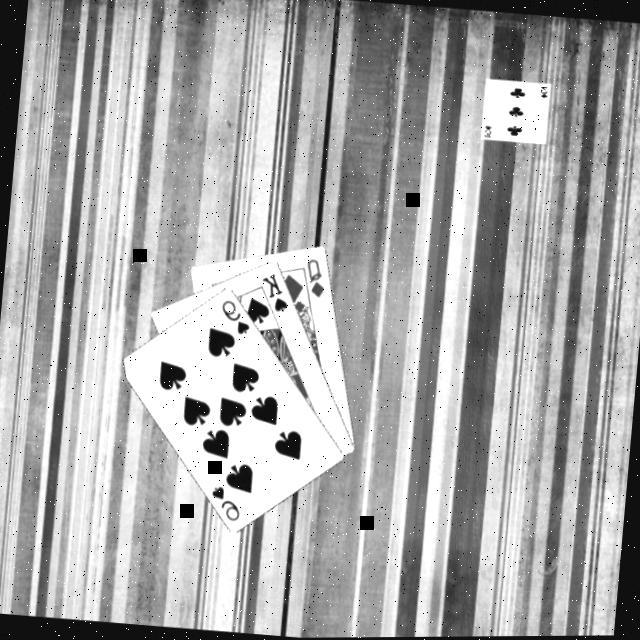9S: (207, 479, 246, 522), (217, 294, 255, 335)
KS: (257, 266, 294, 313)
QD: (301, 253, 331, 299)
